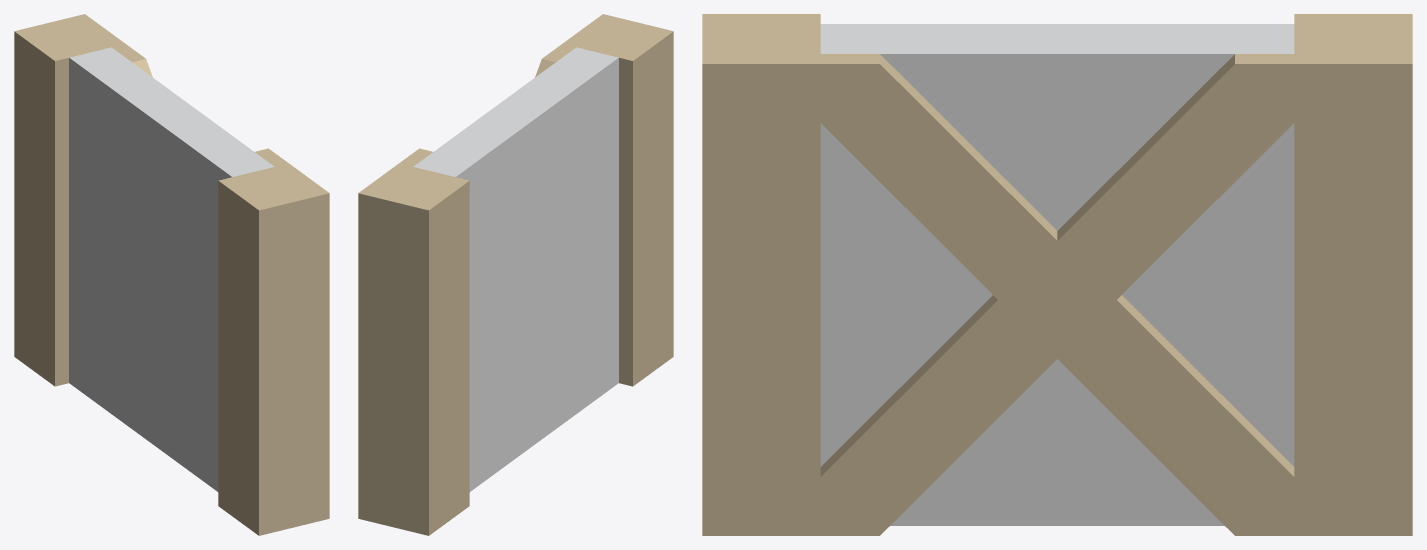
Rendered from Wood_Wall_Double_Cross_01.glb.
3 views of the same model, side by side, from view 1: azimuth 30°, elevation 25°; view 2: azimuth 150°, elevation 25°; view 3: azimuth 270°, elevation 25° (orthographic). The views are drawn at different scales.
Parts seen in each view (by area): view 1: Wood_Wall_Double_Cross_01; view 2: Wood_Wall_Double_Cross_01; view 3: Wood_Wall_Double_Cross_01.
Part boxes in pixels (<box>): Wood_Wall_Double_Cross_01: <box>14,14,329,535</box>; Wood_Wall_Double_Cross_01: <box>358,14,673,535</box>; Wood_Wall_Double_Cross_01: <box>702,14,1412,535</box>.
Size of the model in its own units: 0.5001 by 2.2 by 3.
